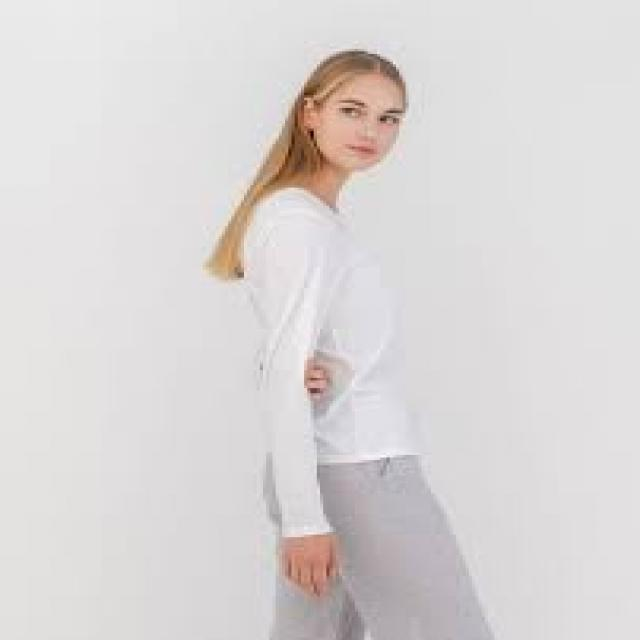plain: (221, 185, 420, 468)
